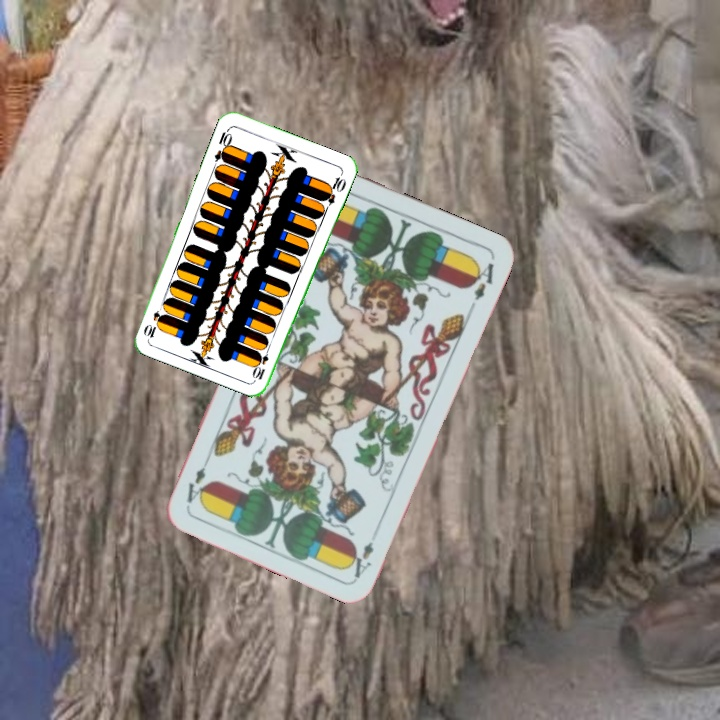E10: (210, 124, 235, 164), (250, 342, 272, 382)
EA: (345, 537, 377, 581)
